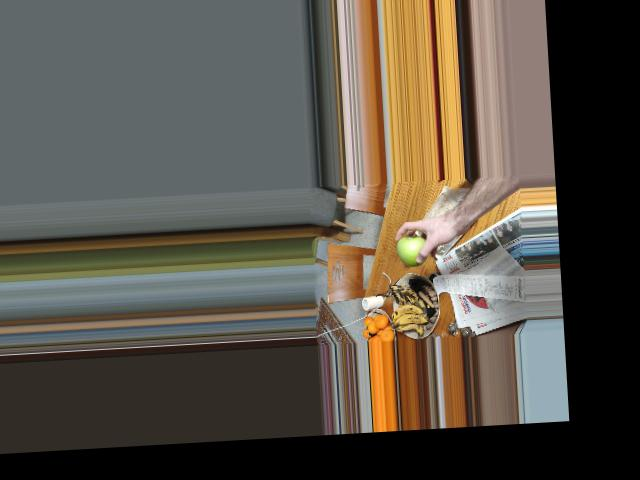apple: (394, 234, 432, 266)
